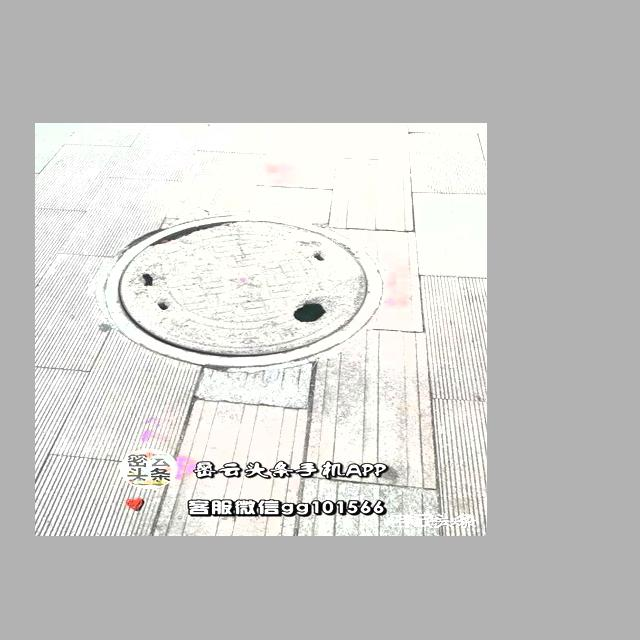broke: (83, 198, 401, 373)
